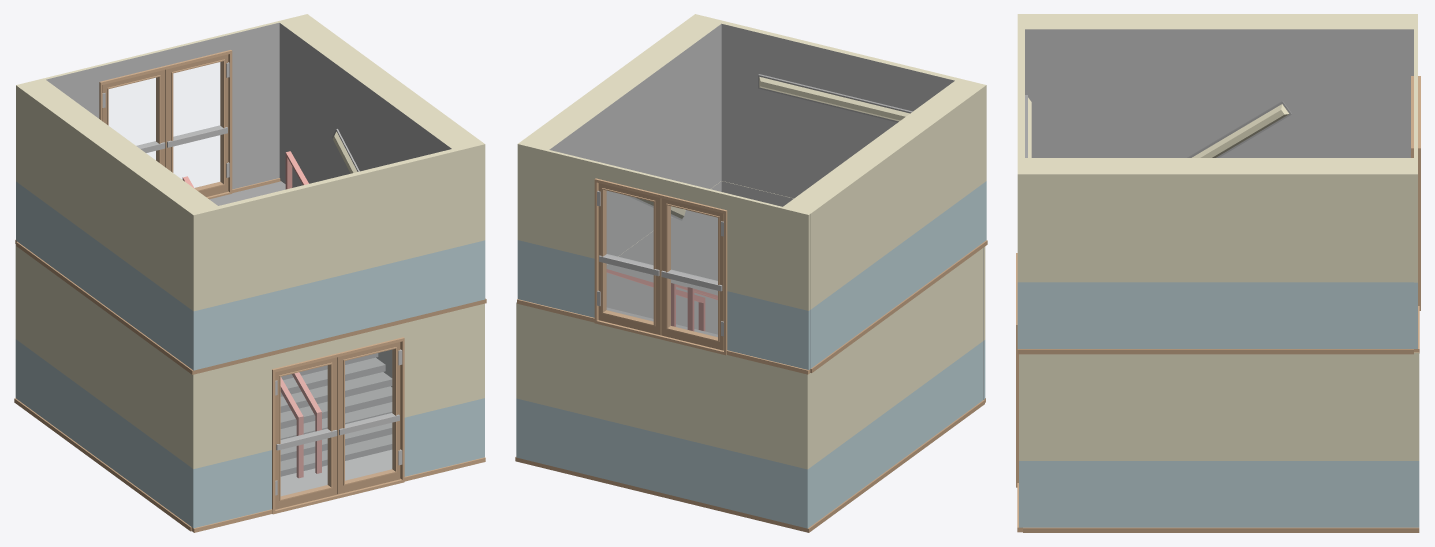
Rendered from stairs.fbx.
3 renders of one model, left to right at view 1: azimuth 30°, elevation 25°; view 2: azimuth 150°, elevation 25°; view 3: azimuth 270°, elevation 25°, orthographic. The views are drawn at different scales.
Parts seen in each view (by area): view 1: Cloner, Cube_37_2, Cube_35_2, Cube_35, Cube_37; view 2: Cloner, Cube_35, Cube_37; view 3: Cloner.
Part boxes in pixels (bbox=[...]): Cloner: bbox=[14, 14, 486, 532]; Cube_37_2: bbox=[337, 342, 402, 494]; Cube_35_2: bbox=[275, 357, 337, 509]; Cube_35: bbox=[165, 54, 229, 196]; Cube_37: bbox=[102, 70, 165, 166]; Cloner: bbox=[515, 14, 987, 532]; Cube_35: bbox=[597, 183, 661, 335]; Cube_37: bbox=[661, 198, 723, 350]; Cloner: bbox=[1016, 14, 1420, 532].
Size of the model in its own units: 173 by 178 by 183.
